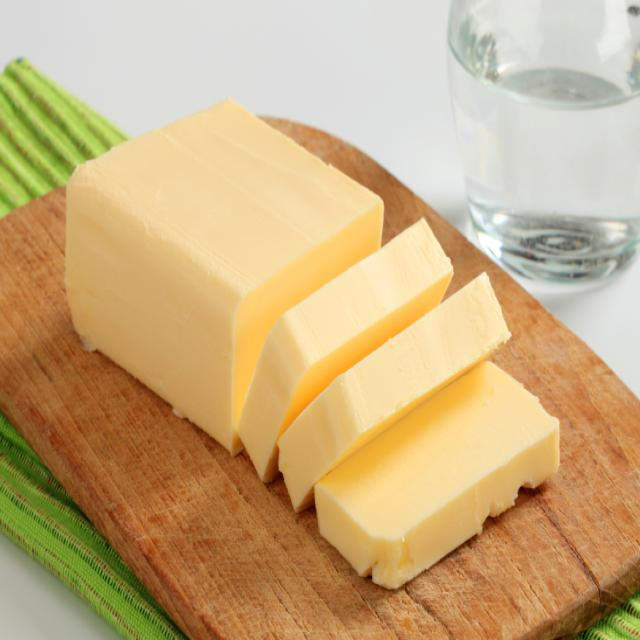Butter: (70, 112, 385, 458), (322, 361, 561, 599), (244, 216, 452, 489), (277, 276, 508, 507)
